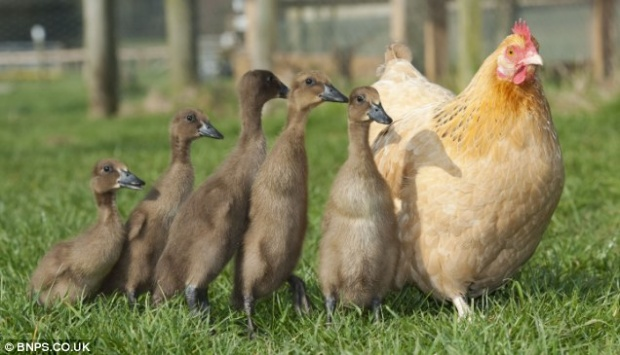ayam: (384, 16, 576, 308)
bebek: (224, 48, 342, 316), (30, 158, 151, 301), (331, 78, 399, 323), (148, 102, 226, 212)
